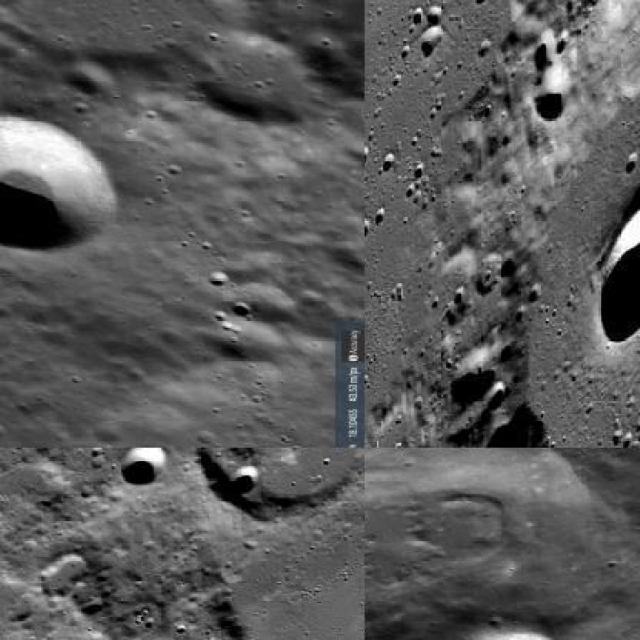crater: (365, 448, 603, 638), (0, 114, 120, 251), (192, 448, 363, 517), (594, 202, 638, 342), (528, 65, 570, 120), (120, 448, 165, 484), (226, 471, 257, 495)
